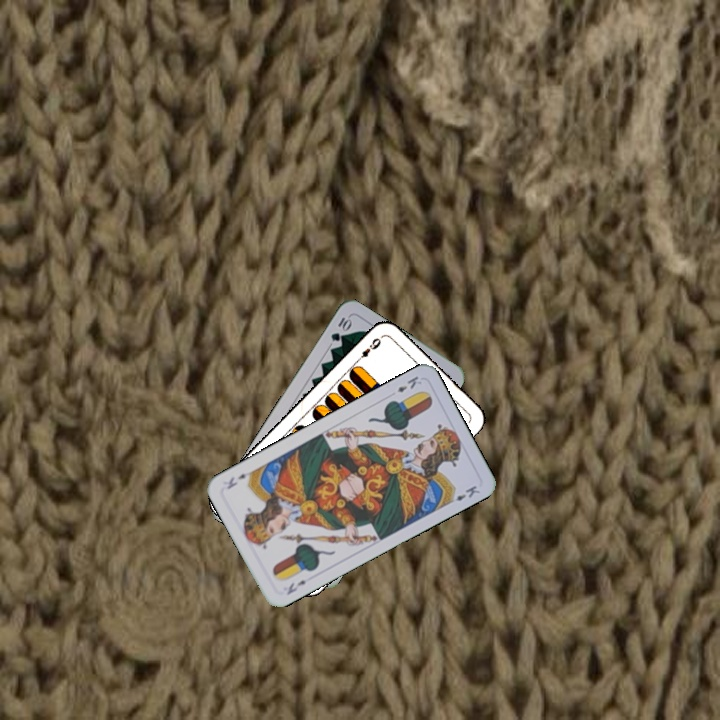E9: (352, 334, 384, 365)
EK: (393, 372, 424, 395), (282, 576, 309, 598)
G10: (327, 313, 354, 344)
